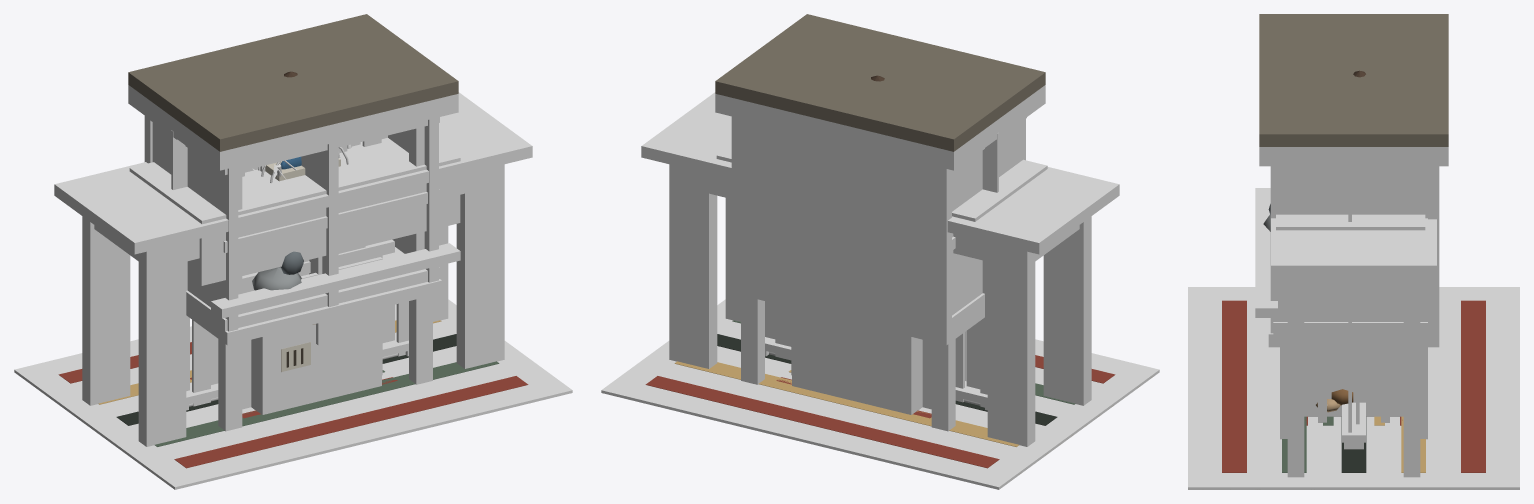
The model's file is furn_details.glb.
The picture shows the model from 3 angles, left to right: view 1: azimuth 30°, elevation 25°; view 2: azimuth 150°, elevation 25°; view 3: azimuth 270°, elevation 25°; orthographic projection. The views are drawn at different scales.
Visible parts, largest first — view 1: pigeon_loft-0, altar_main-tint-0, pigeon_loft-2, rug_big-0, altar_main-2, altar_main-tint-1, box_cardboard_l-0, rug_big-1, curtain_window-tint-0, pigeon_loft-1, altar_home-tint-1, altar_home-tint-0 (+3 smaller); view 2: pigeon_loft-0, altar_main-tint-0, pigeon_loft-2, rug_big-0, altar_main-tint-1, box_cardboard_l-0, rug_big-1, curtain_window-tint-0, altar_main-2, altar_home-tint-0, light_tube-0; view 3: rug_big-0, pigeon_loft-2, pigeon_loft-0, rug_big-1, altar_main-tint-0, altar_main-tint-1, box_cardboard_l-0, altar_main-2, altar_home-tint-0, curtain_window-tint-0, light_tube-0, rug_small-0 (+1 smaller).
Part boxes in pixels (x1,y1,x2,y2): pigeon_loft-0: (128,85,460,431); altar_main-tint-0: (82,164,504,446); pigeon_loft-2: (128,14,458,151); rug_big-0: (14,299,572,489); altar_main-2: (129,138,460,285); altar_main-tint-1: (54,92,532,254); box_cardboard_l-0: (251,308,381,414); rug_big-1: (58,320,528,468); curtain_window-tint-0: (171,118,408,406); pigeon_loft-1: (252,251,303,290); altar_home-tint-1: (242,239,394,289); altar_home-tint-0: (242,255,382,409); pigeon_loft-0: (715,85,1045,431); altar_main-tint-0: (669,164,1091,446); pigeon_loft-2: (715,14,1045,151); rug_big-0: (601,299,1159,489); altar_main-tint-1: (641,92,1119,254); box_cardboard_l-0: (792,308,922,414); rug_big-1: (645,320,1115,468); curtain_window-tint-0: (765,118,1002,407); altar_main-2: (716,145,1047,221); altar_home-tint-0: (791,307,966,409); light_tube-0: (765,337,987,410); rug_big-0: (1188,287,1519,489); pigeon_loft-2: (1259,14,1448,146); pigeon_loft-0: (1255,147,1448,439); rug_big-1: (1222,300,1485,472); altar_main-tint-0: (1287,277,1420,477); altar_main-tint-1: (1271,218,1436,277); box_cardboard_l-0: (1304,347,1403,416); altar_main-2: (1276,214,1425,294); altar_home-tint-0: (1318,347,1389,422); curtain_window-tint-0: (1347,149,1360,432); light_tube-0: (1342,402,1365,449); rug_small-0: (1306,417,1401,431).
Bounding box in the file's own units: 2 × 1.5 × 1.4.
